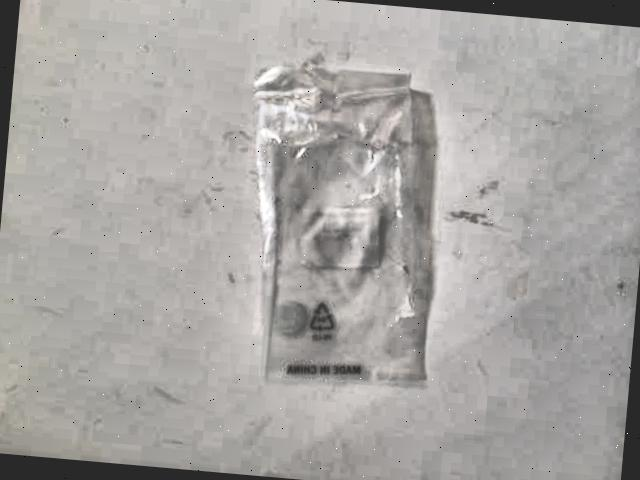Plastic: (211, 42, 469, 402)
